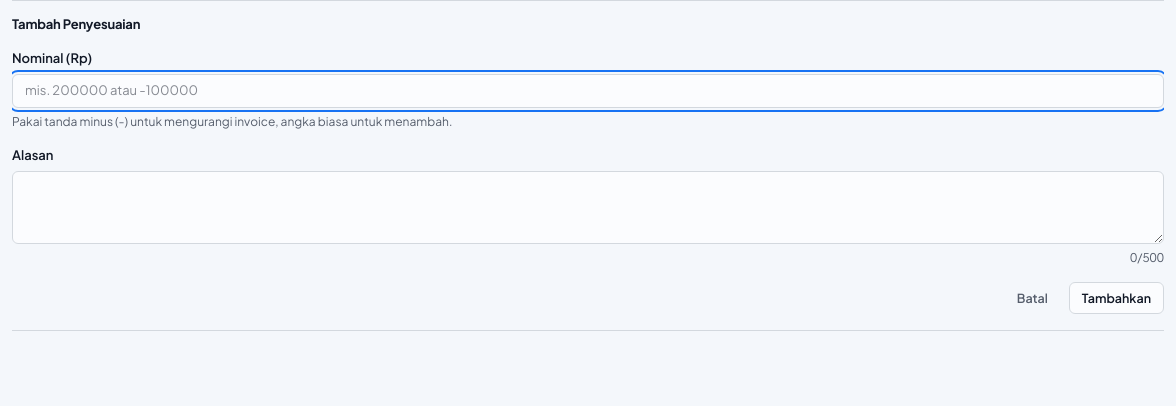
Test case: AdjustmentForm › keeps the form open with the refusal when the invoice will not take it
Type "100000" into the field labelled "Nominal (Rp)" at (588, 91), box [12,74,1164,108]
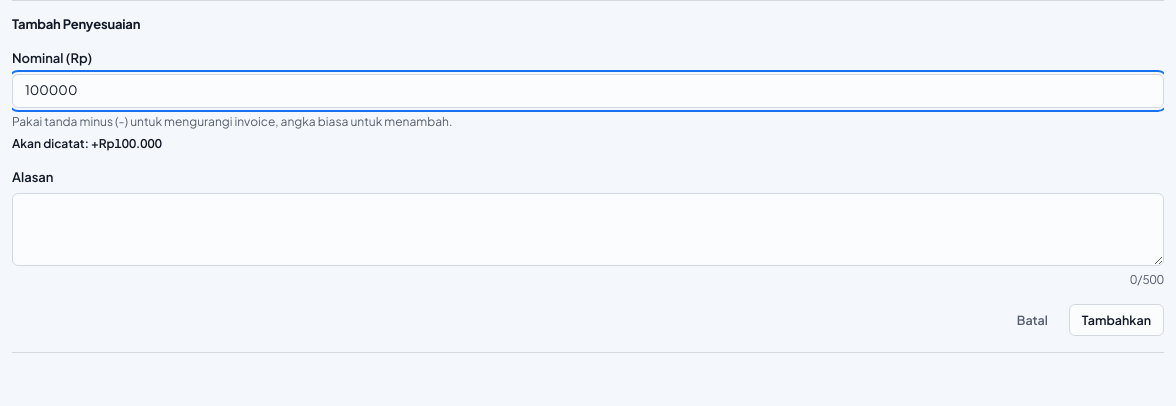
Type "Koreksi" into the text box labelled "Alasan" at (588, 229), box [12,193,1164,266]
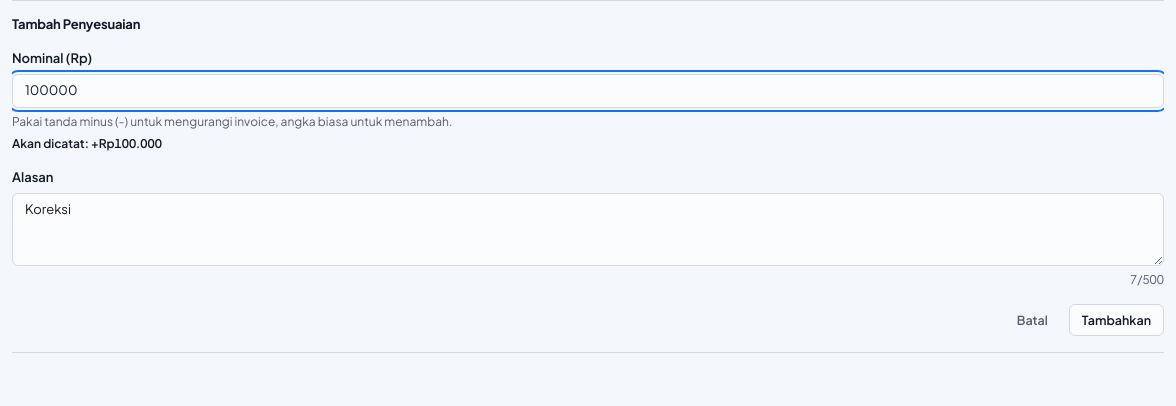
Click the button "Tambahkan" at (1116, 320), box [1069,304,1164,336]
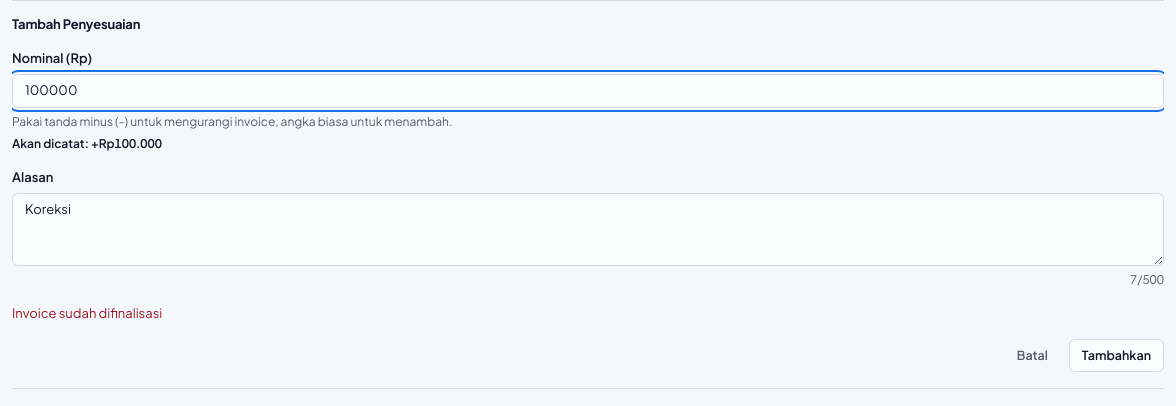
Expected: the message reads "Invoice sudah difinalisasi", [12,305,162,321]
